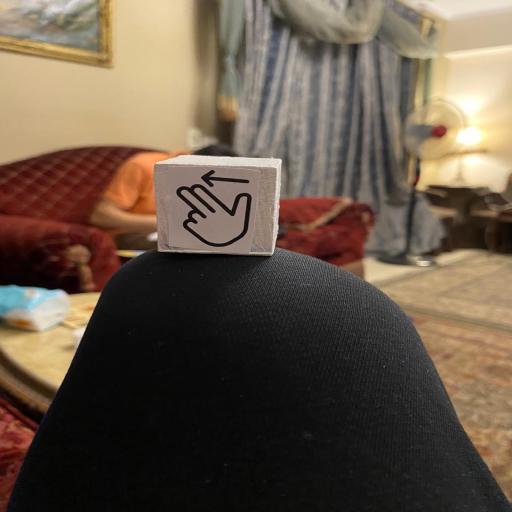LeftSwipe: (151, 154, 284, 257)
